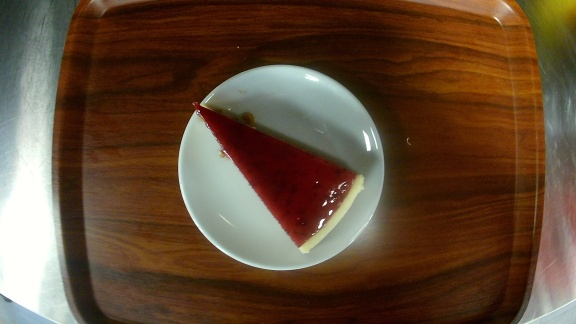frambuazlipasta: (176, 64, 386, 270)
